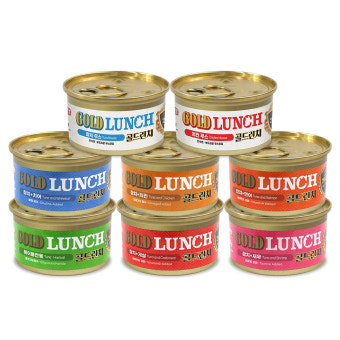paper: (62, 70, 170, 156), (9, 132, 116, 218), (171, 69, 277, 155), (121, 129, 222, 217), (8, 198, 116, 278), (229, 128, 330, 212), (118, 198, 225, 275), (225, 200, 333, 275)
